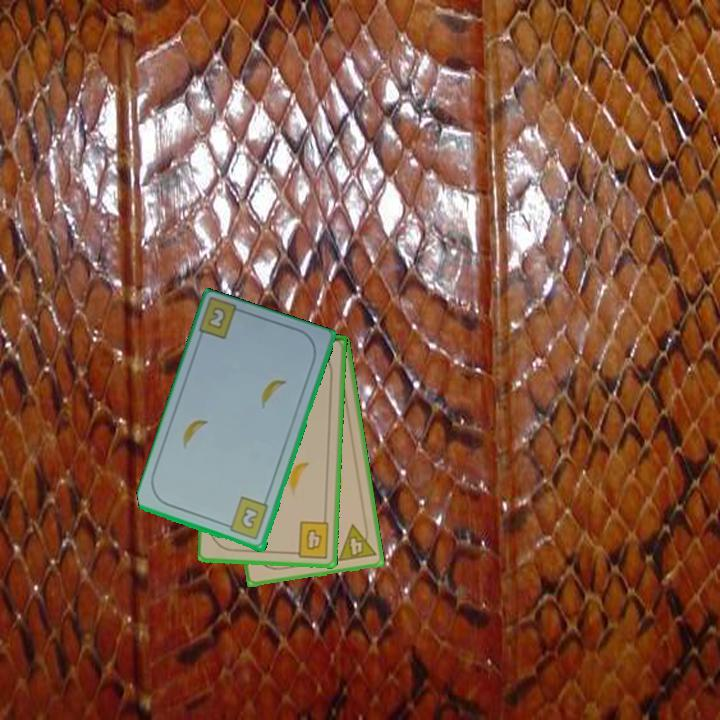2b: (221, 494, 271, 543), (204, 303, 229, 333)
4b: (288, 518, 332, 561)
4p: (334, 519, 379, 564)
